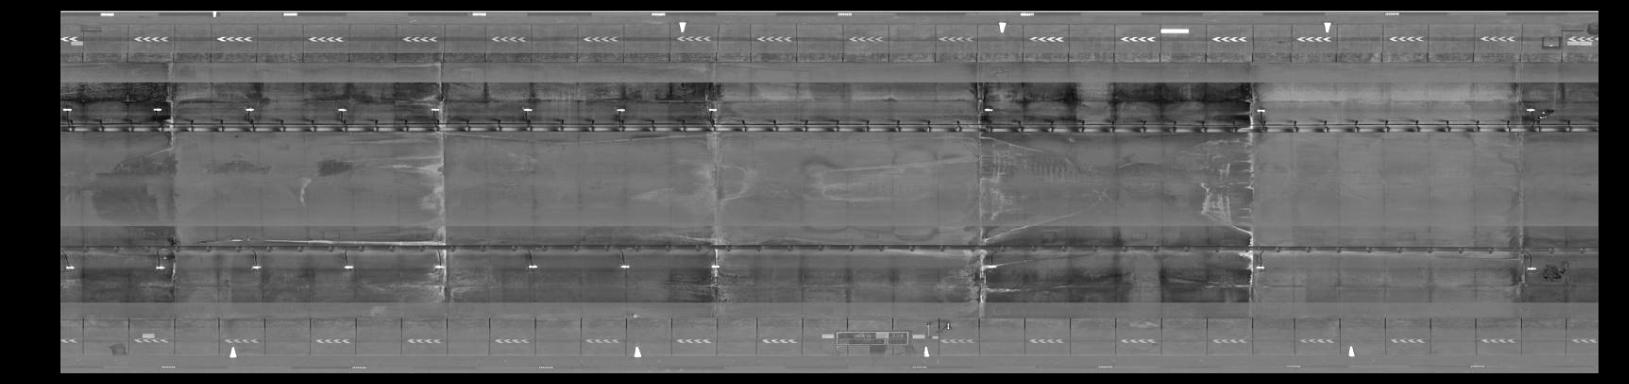light: (248, 260, 267, 274), (610, 102, 627, 115), (703, 260, 726, 271), (982, 260, 1005, 271), (615, 260, 634, 273), (1251, 262, 1271, 273), (152, 263, 172, 273), (241, 104, 262, 114), (425, 105, 445, 115), (149, 105, 167, 115), (430, 262, 449, 272), (1523, 264, 1540, 275), (333, 105, 353, 114), (524, 260, 541, 271), (64, 260, 79, 273), (982, 104, 997, 115), (1252, 106, 1269, 116), (1522, 104, 1539, 114), (519, 105, 537, 114), (704, 105, 722, 114), (339, 263, 357, 271), (61, 104, 74, 114)
